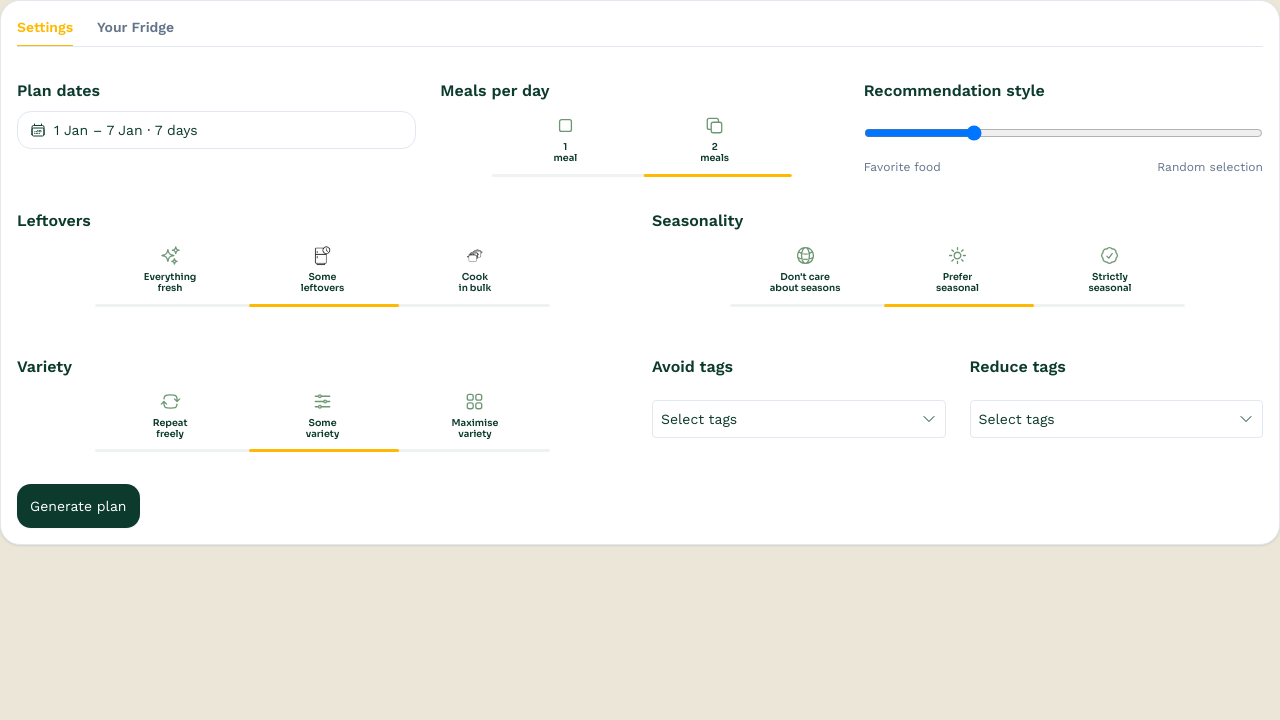
Scenario: switching to the fridge tab reveals the ingredient picker
What coordinates should you click on to do the following:
click the tab "Your Fridge"
I would click on:
 (136, 32)
Its box is [97, 17, 174, 47].
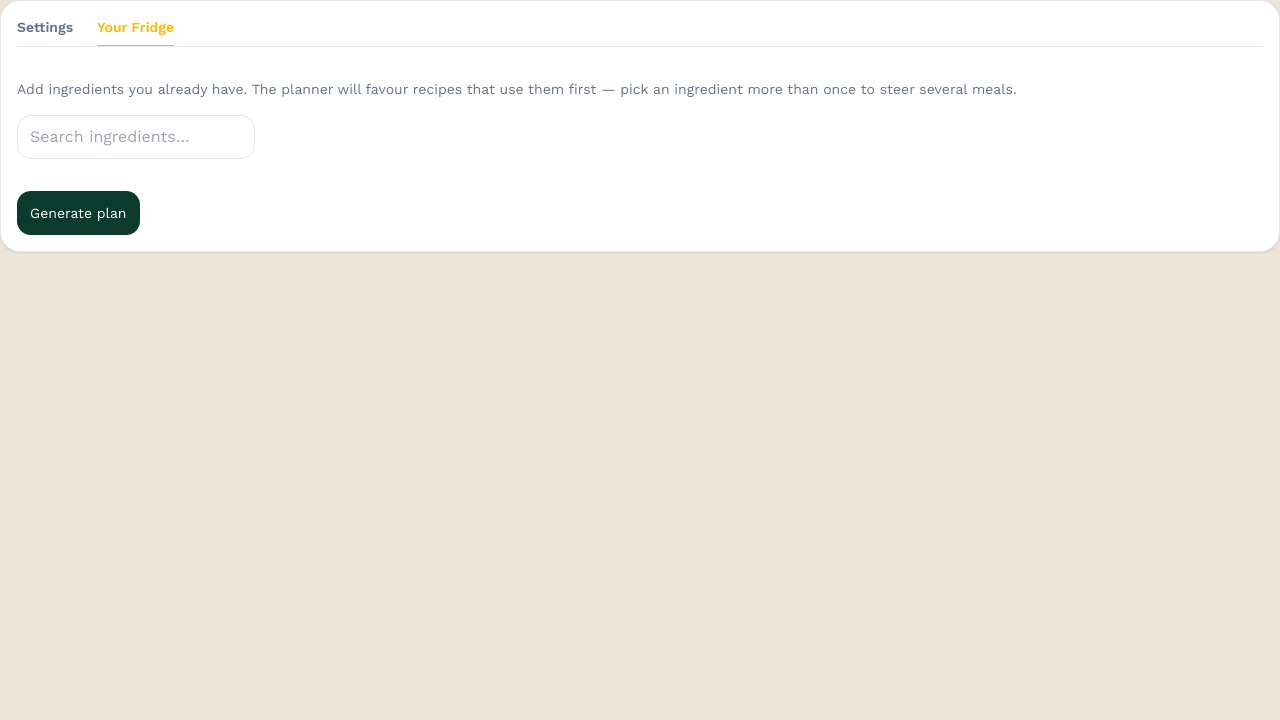
Expected: the field with placeholder "Search ingredients…" is shown, [17, 115, 255, 159]
